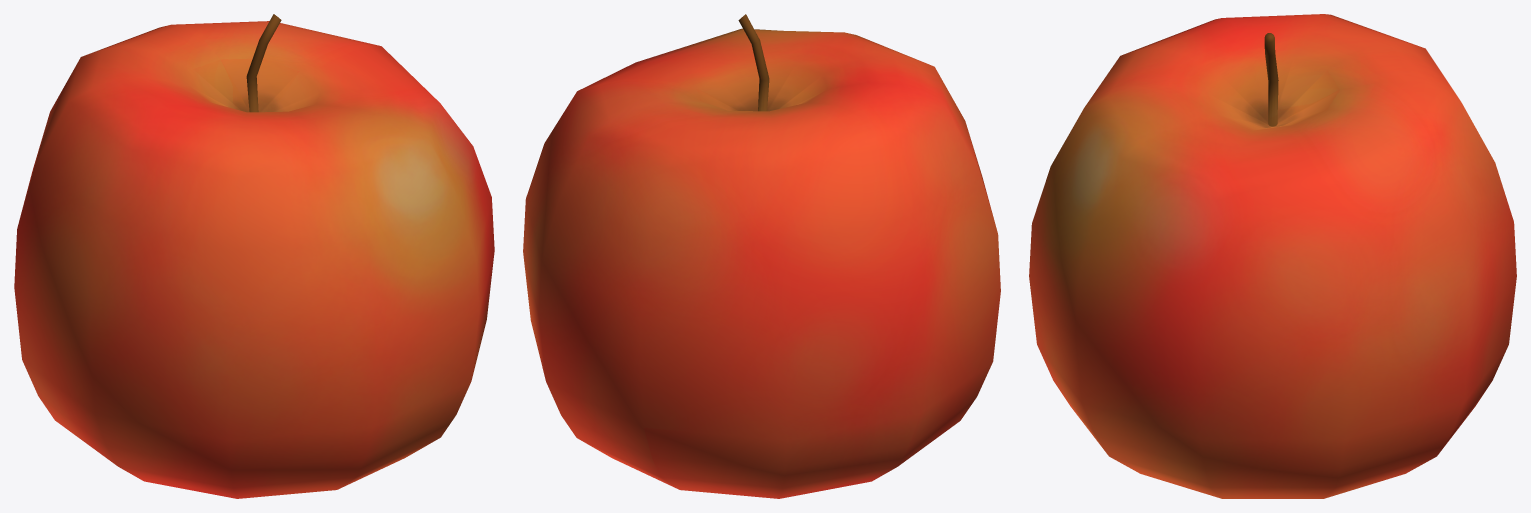
File: Apple.fbx
3 views of the same model, side by side, from view 1: azimuth 30°, elevation 25°; view 2: azimuth 150°, elevation 25°; view 3: azimuth 270°, elevation 25° (orthographic).
Visible parts, largest first — view 1: Cylinder; view 2: Cylinder; view 3: Cylinder.
Boxes of the visible parts, box(x1,y1,x2,y2) form: Cylinder: box(14, 14, 494, 498); Cylinder: box(523, 14, 1000, 498); Cylinder: box(1029, 14, 1516, 498).
Bounding box in the file's own units: 203 × 199 × 213.
